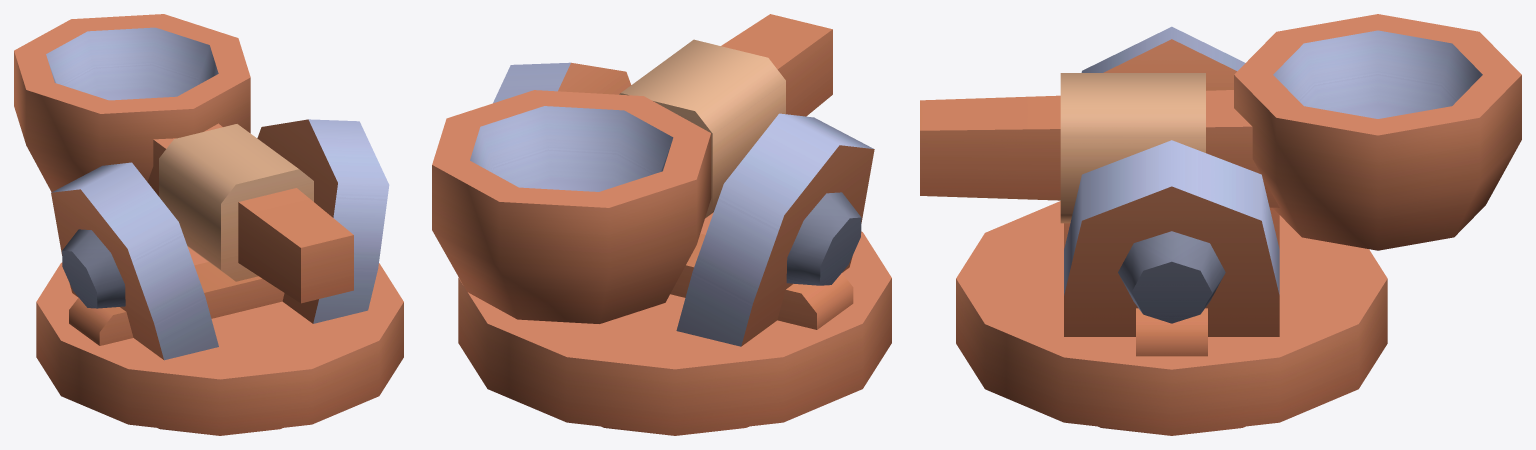
File: td_catapult.glb
The picture shows the model from 3 angles, left to right: view 1: azimuth 30°, elevation 25°; view 2: azimuth 150°, elevation 25°; view 3: azimuth 270°, elevation 25°; orthographic projection. The views are drawn at different scales.
Parts seen in each view (by area): view 1: weapon-catapult; view 2: weapon-catapult; view 3: weapon-catapult.
Boxes of the visible parts, x1,y1,x2,y2 form: weapon-catapult: [14, 14, 403, 435]; weapon-catapult: [432, 14, 891, 435]; weapon-catapult: [920, 14, 1521, 435].
Bounding box in the file's own units: 0.6 × 0.4625 × 0.8366.
1 material, 1 textured.
